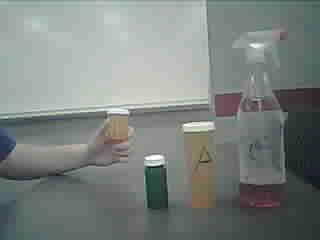Bottle A: (178, 117, 223, 223)
Bottle B: (103, 107, 133, 147)
Bottle C: (139, 151, 174, 217)
hazard: (227, 25, 303, 214)
